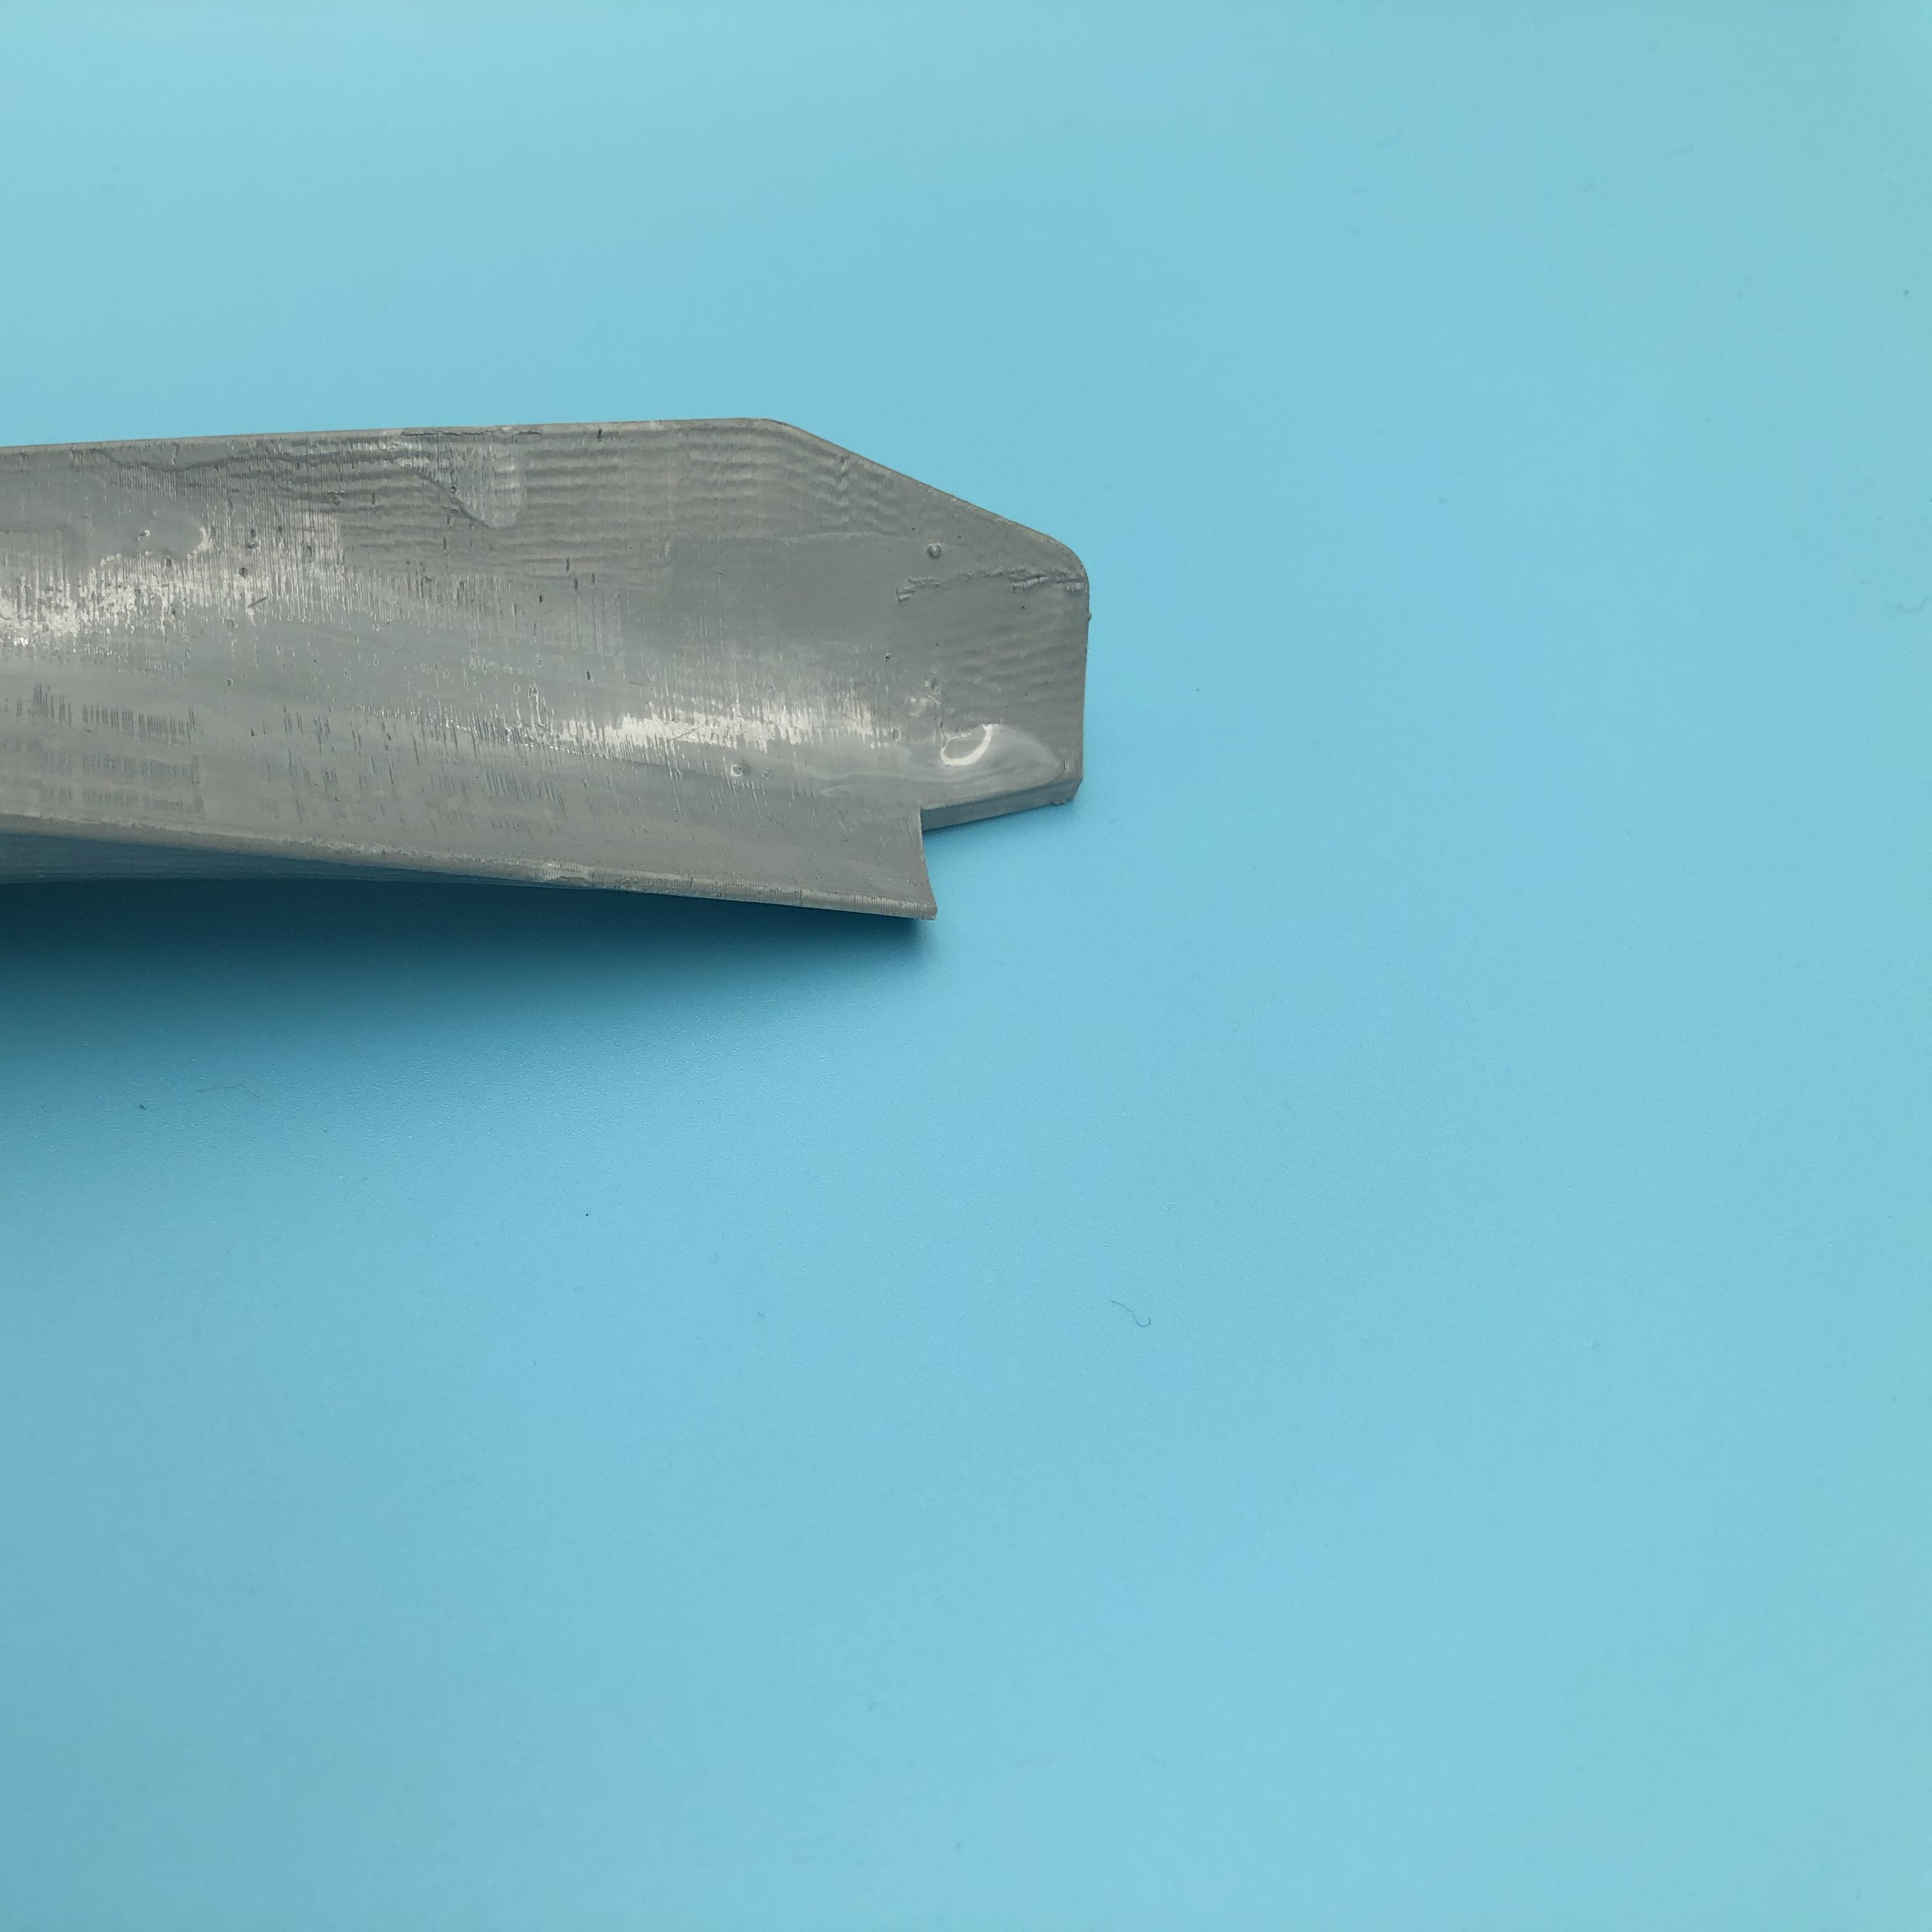fracture: (911, 770, 1065, 927)
